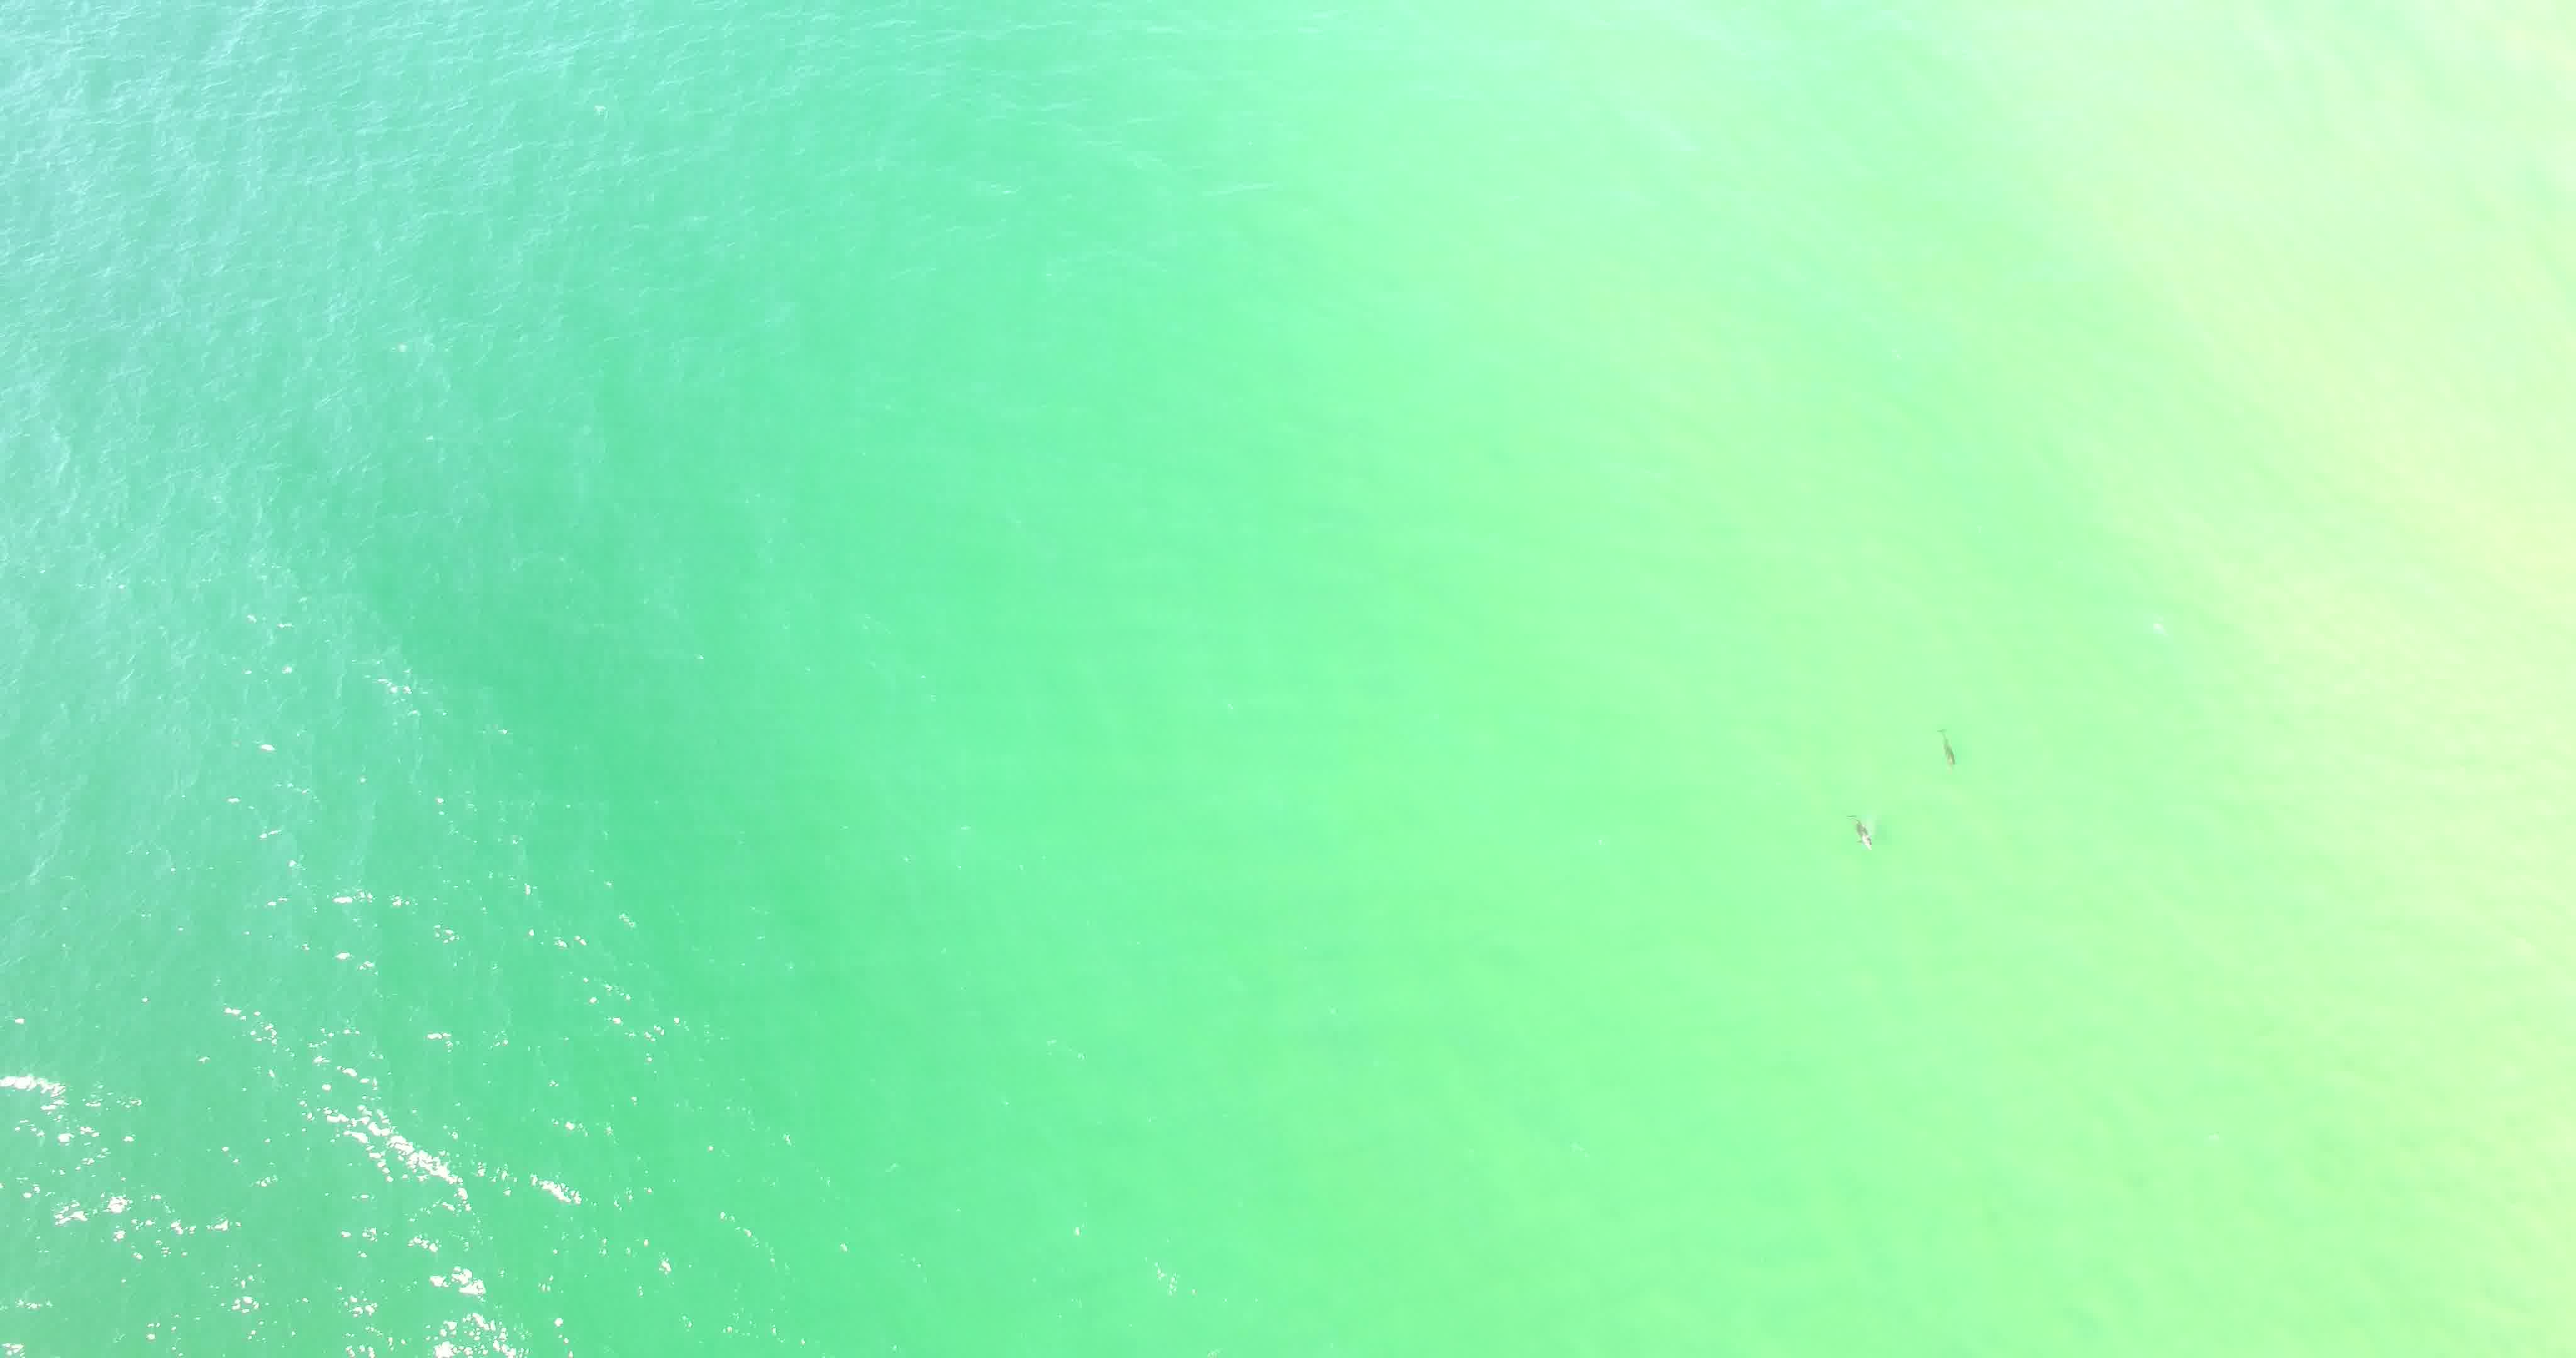dolphin: (1831, 784, 1886, 866), (1930, 709, 1975, 792)
